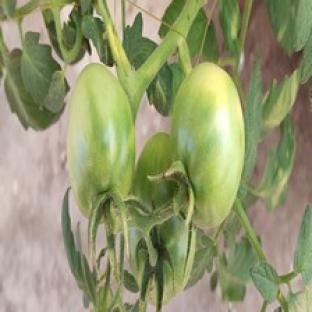Tomato: (172, 63, 245, 228), (67, 63, 135, 217), (148, 216, 196, 303), (133, 133, 176, 210)
